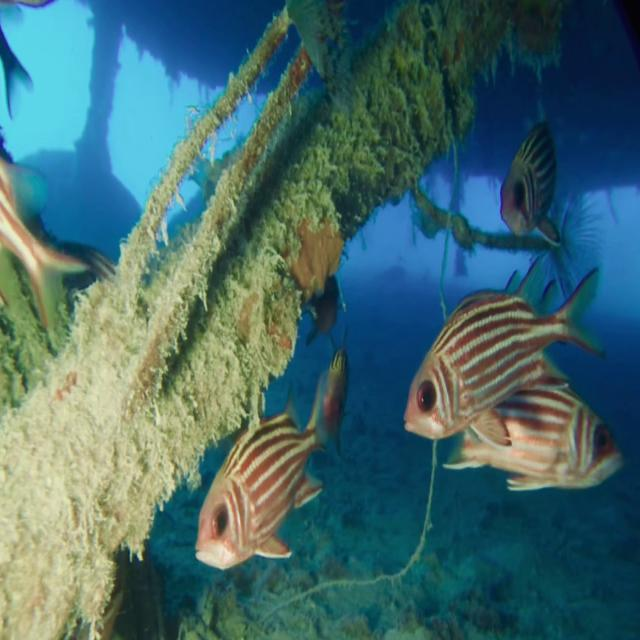Asker Baligi: (402, 252, 623, 494), (193, 327, 351, 573)
